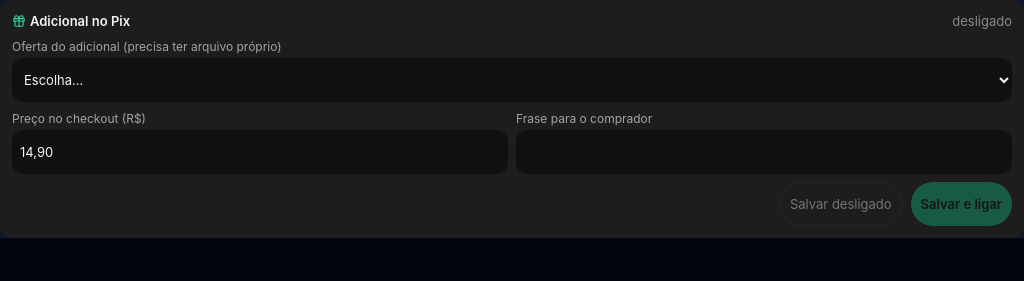
Scenario: NORQVA-0032 — configuração do adicional › salva e liga com o preço digitado
Select "OFF-000009 · Molhos (TESTE)" in the dropdown labelled "Oferta do adicional" at coordinates (512, 80), box 12,58 -> 1012,102
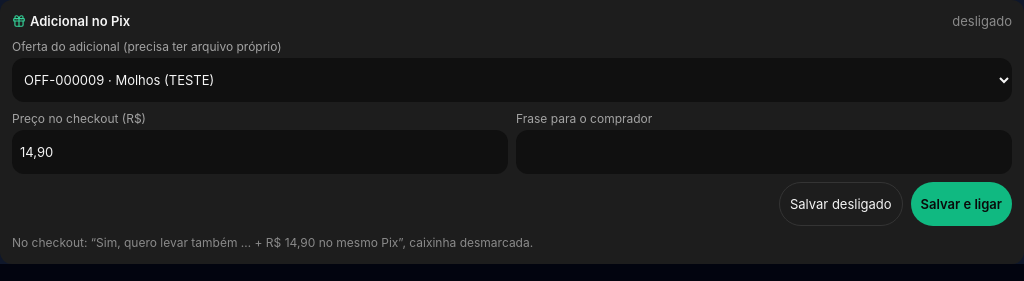
Click the button with test id "bump-save-on" at coordinates (961, 204), box 911,182 -> 1012,226
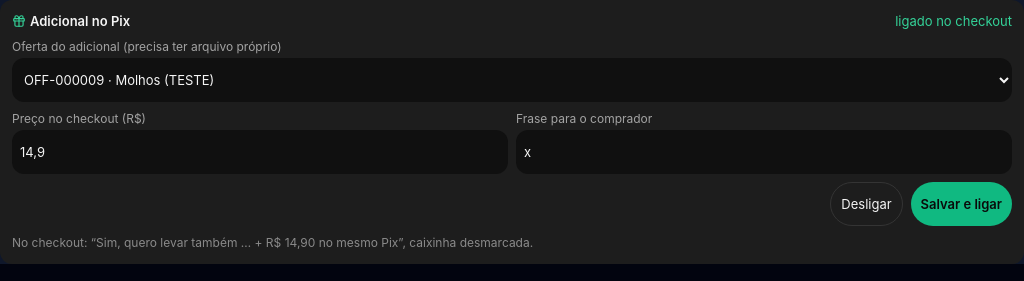
expect the text with test id "bump-status" reads "ligado no checkout": met, box 895,13 -> 1012,29
